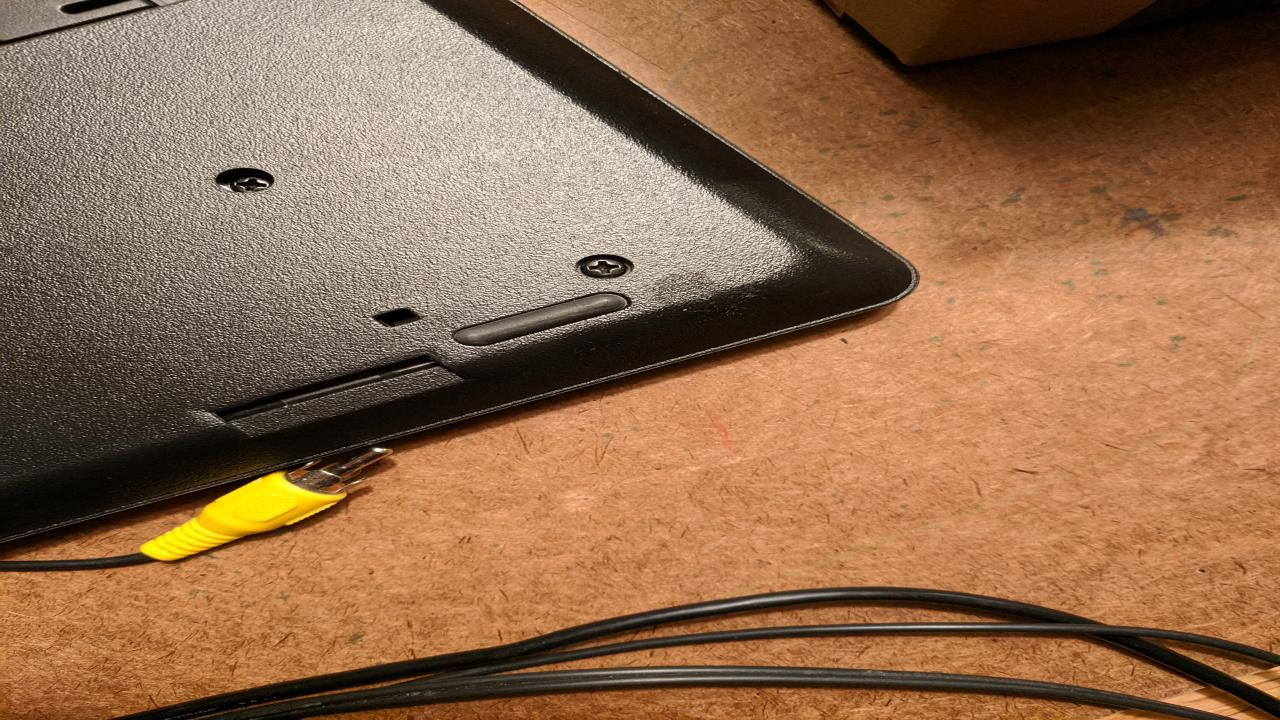CRS: (578, 256, 626, 278), (226, 174, 279, 192)
